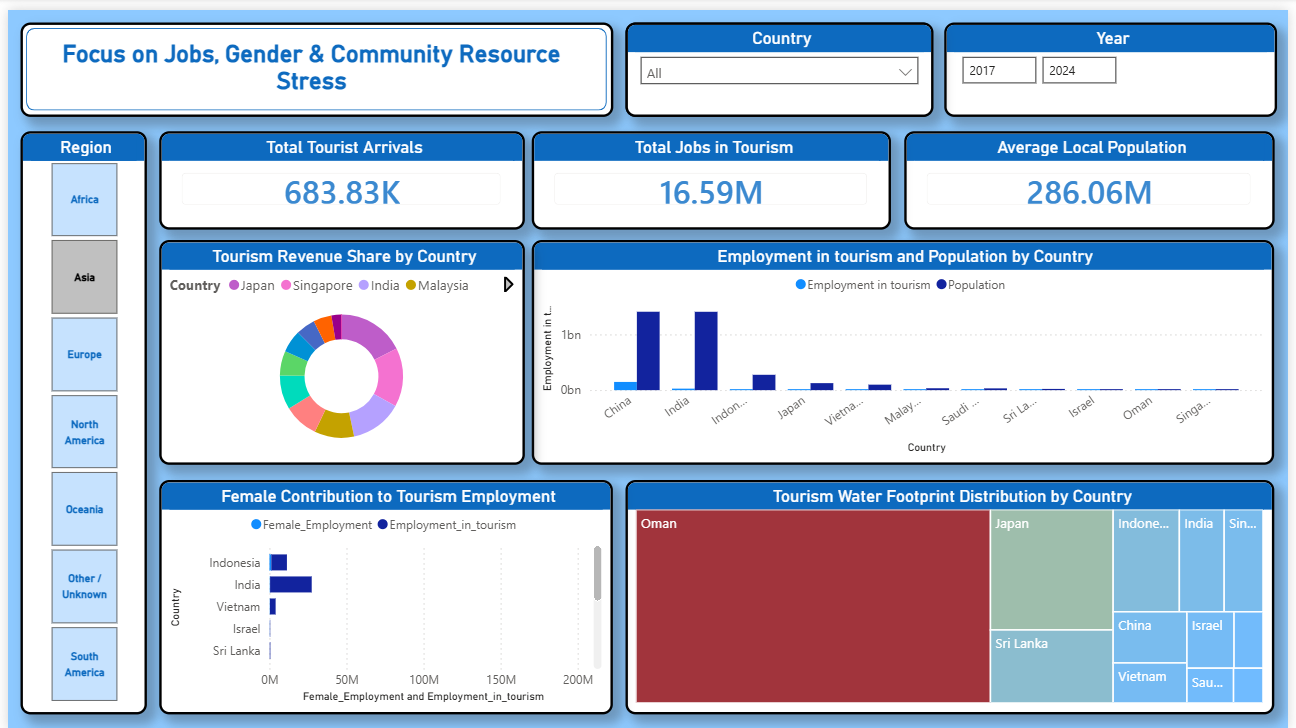

The page's visual inventory and layout, read from the dashboard file:
{"tool":"powerbi","page":{"name":"Page 2","canvas":[1280,720],"ordinal":1},"visuals":[{"type":"shape","box":[12.3,12.3,592.6,94.5],"z":0},{"type":"slicer","title":"Country","fields":{"Values":["Sheet1.Country"]},"box":[617.5,12.3,307.4,94.7],"z":1000},{"type":"slicer","title":"Year","fields":{"Values":["Sheet1.Year"]},"box":[936.2,12.3,332.5,94.5],"z":2000},{"type":"slicer","title":"Region","fields":{"Values":["Sheet1.Region"]},"box":[12.3,121.5,126.4,582.8],"z":3000},{"type":"cardVisual","title":"Total Tourist Arrivals","fields":{"Data":["Sum(Sheet1.Tourist_arrivals)"]},"box":[150.9,121.5,365.6,98.2],"z":5000},{"type":"cardVisual","title":"Average Local Population","fields":{"Data":["Avg(Sheet1.Population)"]},"box":[895.7,121.5,370.6,98.2],"z":6000},{"type":"cardVisual","title":"Total Jobs in Tourism","fields":{"Data":["Avg(Sheet1.Emplyoment_in_tourism)"]},"box":[523.9,121.5,359.5,98.2],"z":7000},{"type":"textbox","box":[25.8,24.5,554.6,72.4],"z":8000},{"type":"clusteredColumnChart","fields":{"Category":["Sheet2.Country"],"Y":["Avg(Sheet2.Employment_in_tourism)","Avg(Sheet2.Population)"]},"box":[523.9,229.4,742.3,224.5],"z":9000},{"type":"donutChart","fields":{"Y":["Sum(Sheet1.Tourism_Revenue_USD)"],"Category":["Sheet1.Country"]},"box":[150.9,229.4,365.6,224.5],"z":10000},{"type":"slicer","title":"Country","fields":{"Values":["Sheet1.Country"]},"box":[617.2,12.3,308,94.5],"z":11000},{"type":"treemap","title":"Tourism Water Footprint Distribution by Country","fields":{"Group":["Sheet1.Country"],"Values":["Avg(Sheet1.Annual Water Use m3)"]},"box":[617.2,469.9,649.1,234.4],"z":12000},{"type":"barChart","title":"Female Contribution to Tourism Employment","fields":{"Y":["Avg(Sheet2.Female_Employment)","Avg(Sheet2.Employment_in_tourism)"],"Category":["Sheet1.Country"]},"box":[150.9,469.9,454,234.4],"z":13000}]}

Visuals, with their boxes in screenshot pixels (x1, y1, x2, y2), scaled from the page's 1280x720 canvas onto the 1296x728 screenshot:
shape: region(12, 12, 612, 108)
"Country" slicer: region(625, 12, 936, 108)
"Year" slicer: region(948, 12, 1285, 108)
"Region" slicer: region(12, 123, 140, 712)
"Total Tourist Arrivals" cardVisual: region(153, 123, 523, 222)
"Average Local Population" cardVisual: region(907, 123, 1282, 222)
"Total Jobs in Tourism" cardVisual: region(530, 123, 894, 222)
textbox: region(26, 25, 588, 98)
clusteredColumnChart - Sheet2.Country x Avg(Sheet2.Employment_in_tourism): region(530, 232, 1282, 459)
donutChart - Sum(Sheet1.Tourism_Revenue_USD) x Sheet1.Country: region(153, 232, 523, 459)
"Country" slicer: region(625, 12, 937, 108)
"Tourism Water Footprint Distribution by Country" treemap: region(625, 475, 1282, 712)
"Female Contribution to Tourism Employment" barChart: region(153, 475, 612, 712)
